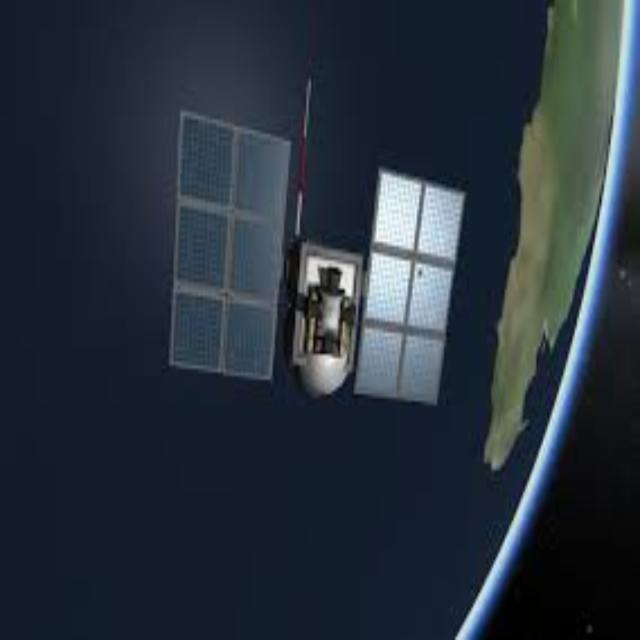medium_debris: (150, 63, 482, 457)
